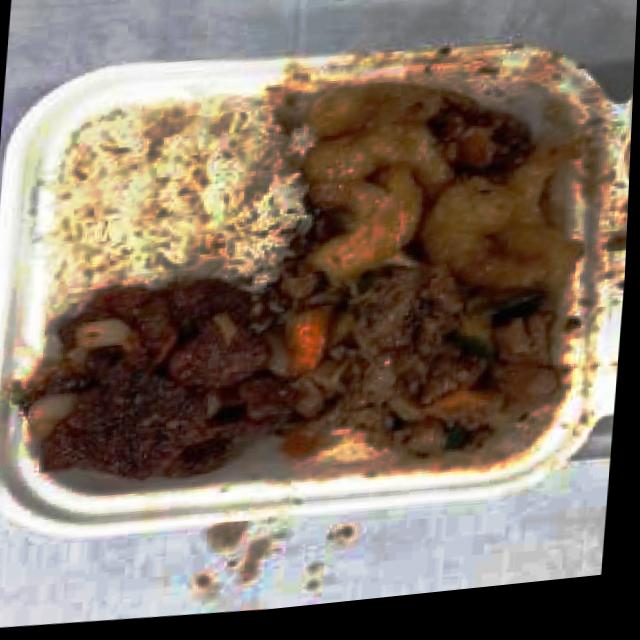Beijing Beef: (16, 278, 298, 502)
Kung Pao Chicken: (288, 271, 564, 481)
rice: (37, 94, 287, 295)
